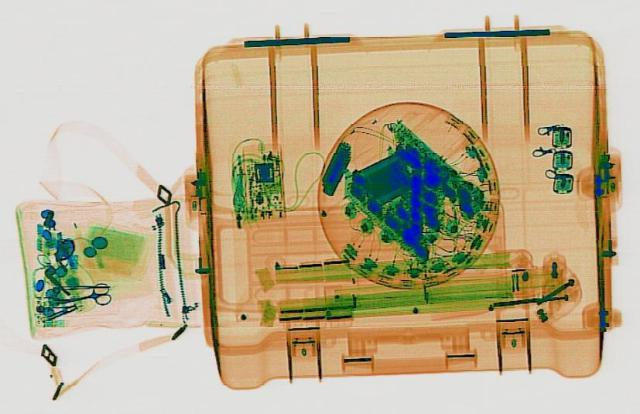Scissors: (41, 280, 115, 311)
